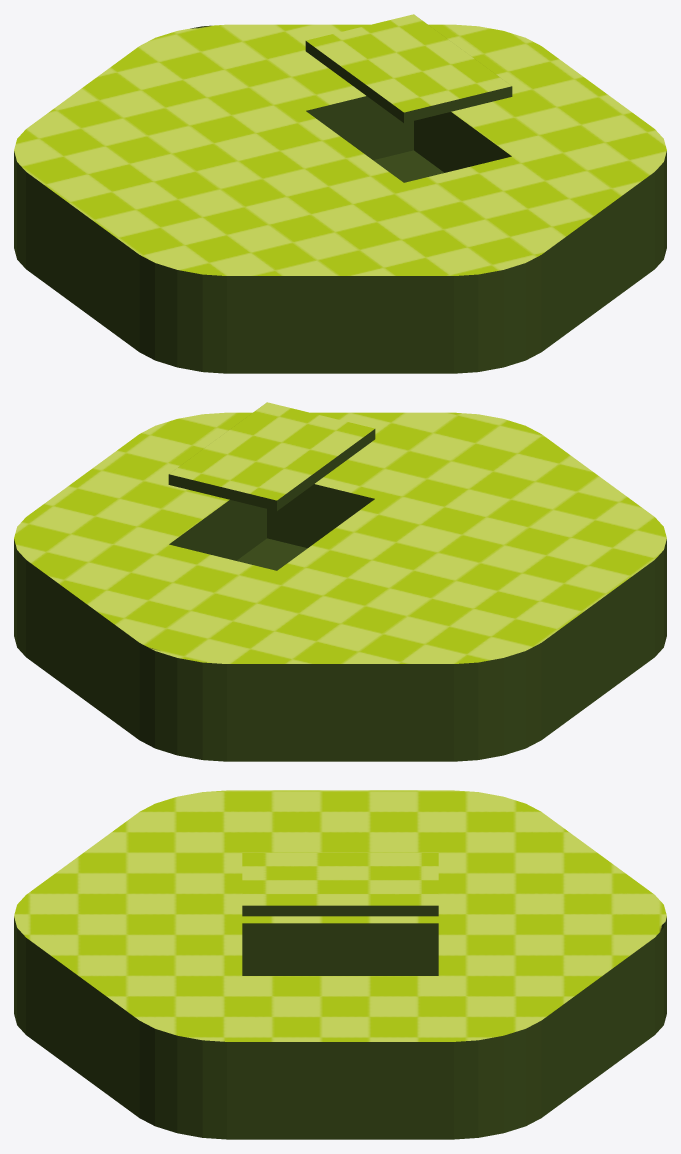
File: 床ーC.fbx
3 views of the same model, one above another, from view 1: azimuth 30°, elevation 25°; view 2: azimuth 150°, elevation 25°; view 3: azimuth 270°, elevation 25° (orthographic).
Visible parts, largest first — view 1: 円柱, 立方体.001; view 2: 円柱, 立方体.001; view 3: 円柱, 立方体.001.
Boxes of the visible parts, <box> form: 円柱: <box>14,24,666,373</box>; 立方体.001: <box>305,14,512,123</box>; 円柱: <box>14,412,666,761</box>; 立方体.001: <box>168,402,375,511</box>; 円柱: <box>14,790,666,1139</box>; 立方体.001: <box>242,853,438,916</box>.
Bounding box in the file's own units: 5.41 × 1.68 × 5.94.
2 materials, 2 textured.
